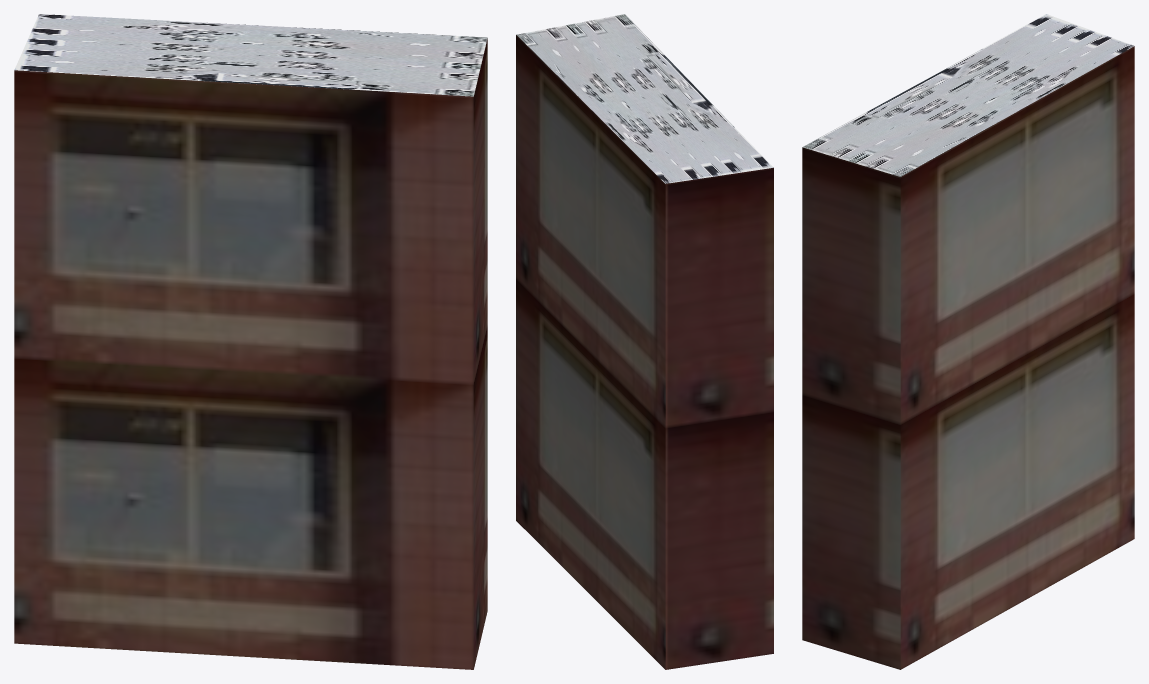
Rendered from ResTex__3821.fbx.
The picture shows the model from 3 angles, left to right: view 1: azimuth 30°, elevation 25°; view 2: azimuth 150°, elevation 25°; view 3: azimuth 270°, elevation 25°; orthographic projection. The views are drawn at different scales.
Parts seen in each view (by area): view 1: CityEngineMaterial_13_m, CityEngineMaterial_2_m; view 2: CityEngineMaterial_13_m, CityEngineMaterial_2_m; view 3: CityEngineMaterial_13_m, CityEngineMaterial_2_m.
Part boxes in pixels (<box>): CityEngineMaterial_13_m: <box>14,38,487,669</box>; CityEngineMaterial_2_m: <box>14,14,487,96</box>; CityEngineMaterial_13_m: <box>516,35,773,669</box>; CityEngineMaterial_2_m: <box>516,14,773,183</box>; CityEngineMaterial_13_m: <box>802,46,1134,669</box>; CityEngineMaterial_2_m: <box>802,14,1133,176</box>.
Size of the model in its own units: 4.26 by 6 by 3.67.
Materials: 2 (2 with a texture image).
